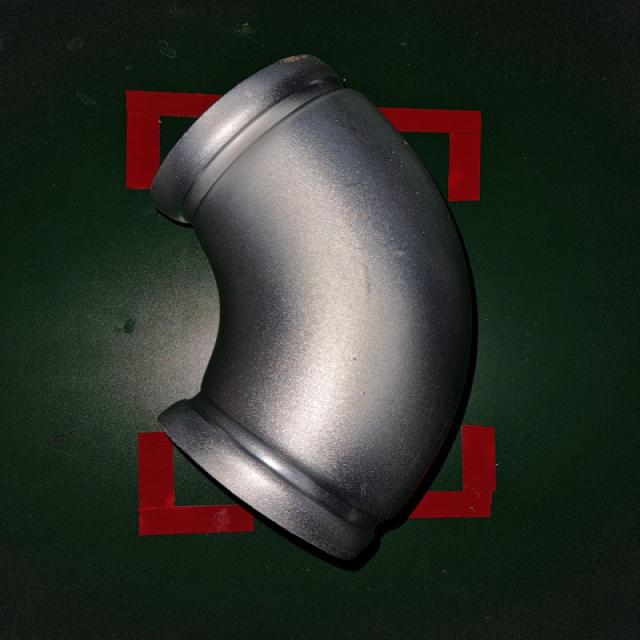Normal: (140, 49, 485, 573)
